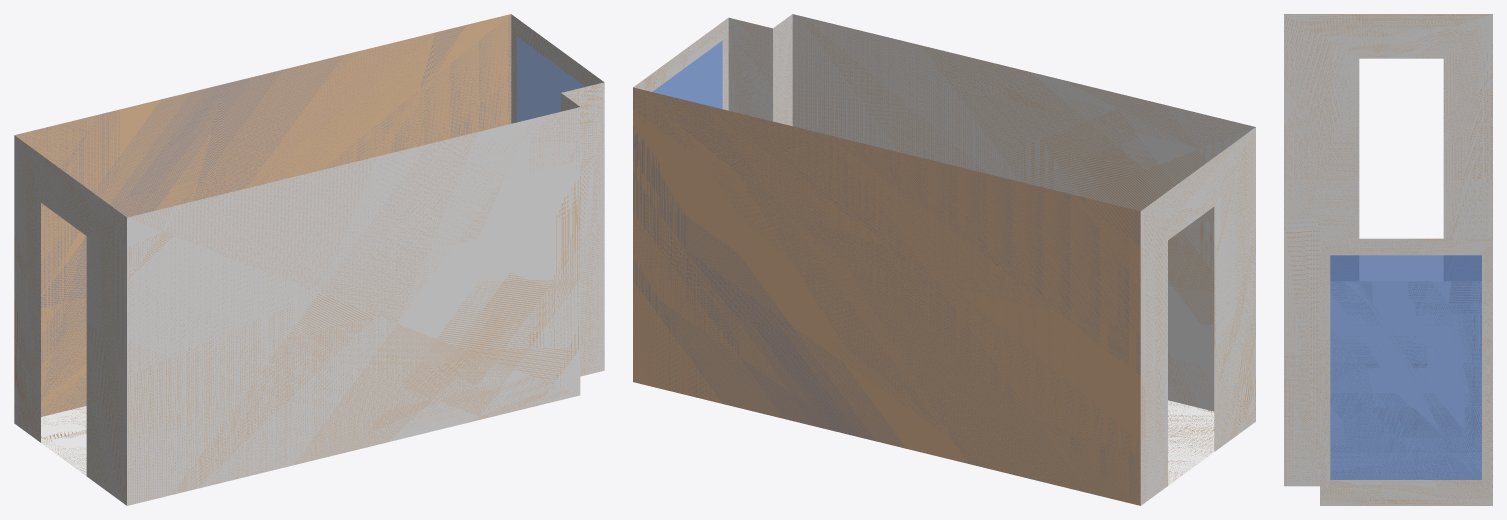
File: DES035.obj
3 views of the same model, side by side, from view 1: azimuth 30°, elevation 25°; view 2: azimuth 150°, elevation 25°; view 3: azimuth 270°, elevation 25° (orthographic). The views are drawn at different scales.
Parts seen in each view (by area): view 1: Mesh1 DES035 Model; view 2: Mesh1 DES035 Model; view 3: Mesh1 DES035 Model.
Part boxes in pixels (bbox=[...]): Mesh1 DES035 Model: bbox=[14, 14, 604, 505]; Mesh1 DES035 Model: bbox=[633, 14, 1255, 505]; Mesh1 DES035 Model: bbox=[1284, 14, 1492, 505].
Size of the model in its own units: 6.49 by 3.6 by 2.55.
Materials: 5 (1 with a texture image).
